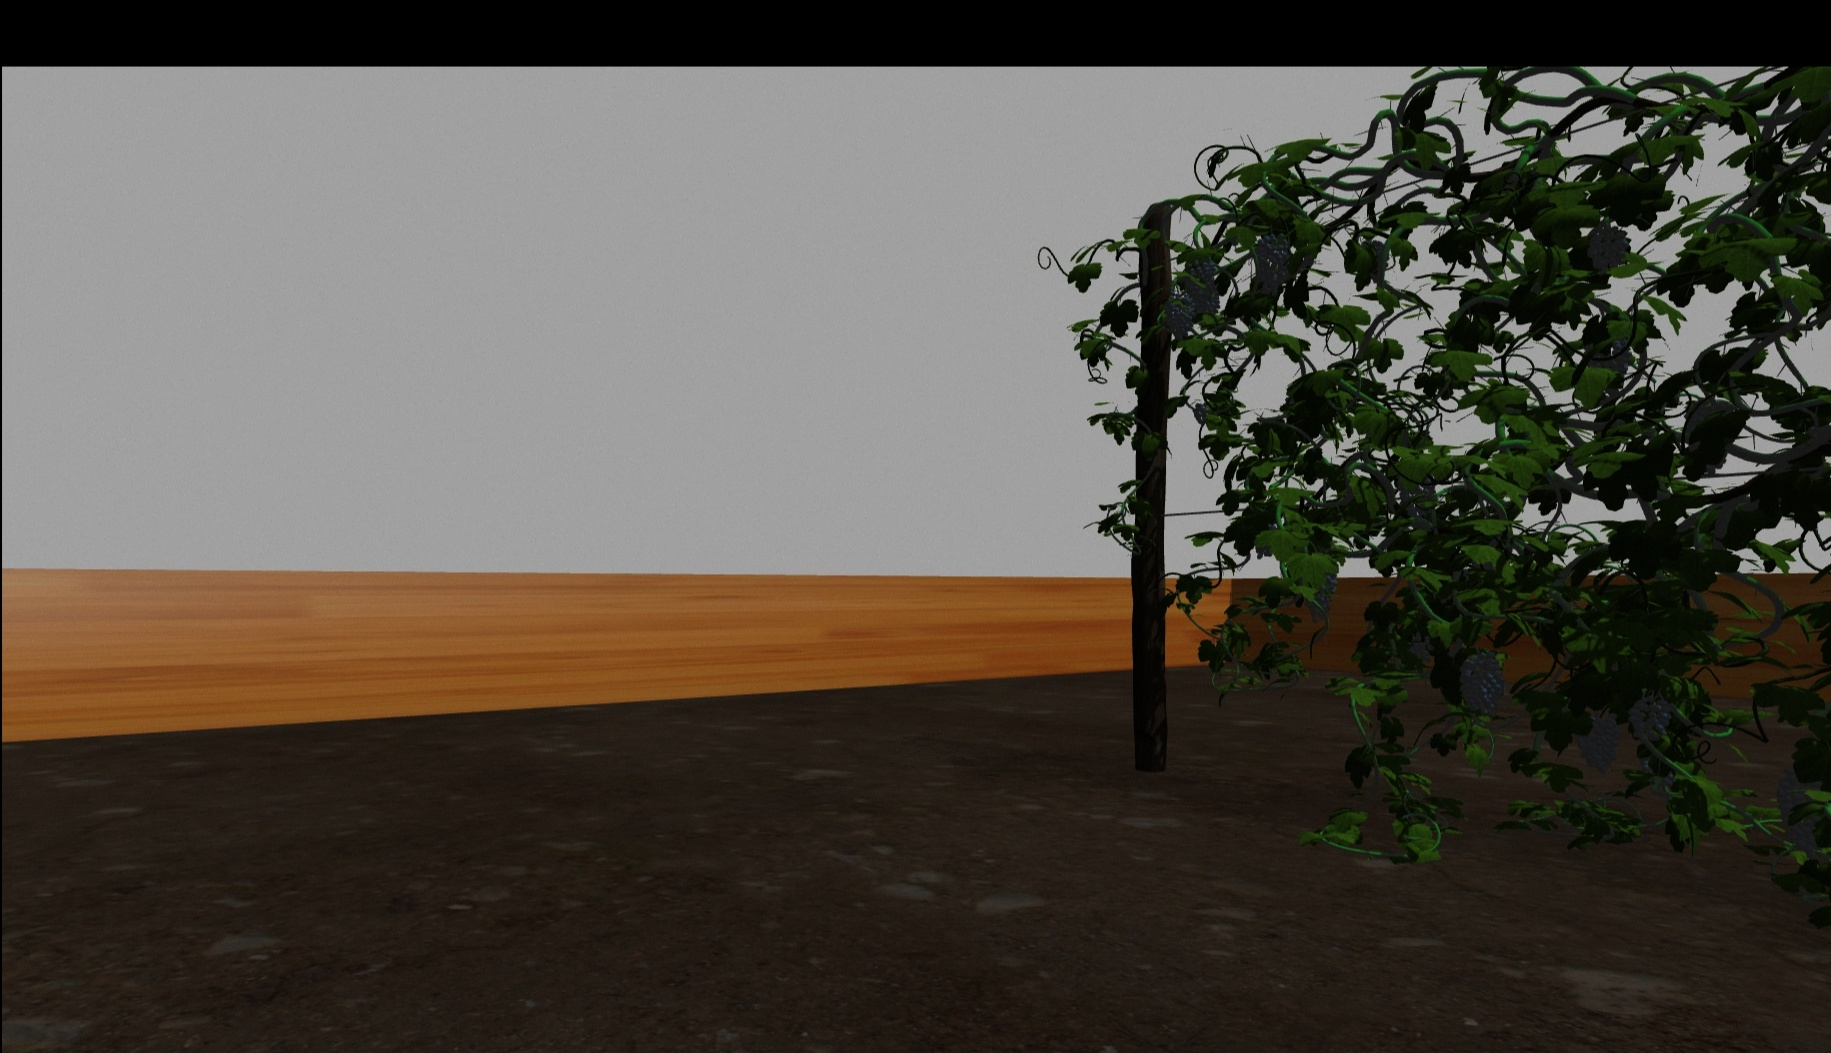grape: (1776, 766, 1823, 859), (1460, 652, 1505, 723), (1574, 712, 1624, 772), (1255, 231, 1292, 294), (1629, 694, 1673, 741), (1587, 224, 1630, 272), (1185, 258, 1220, 315), (1305, 575, 1337, 621), (1164, 294, 1193, 338)
